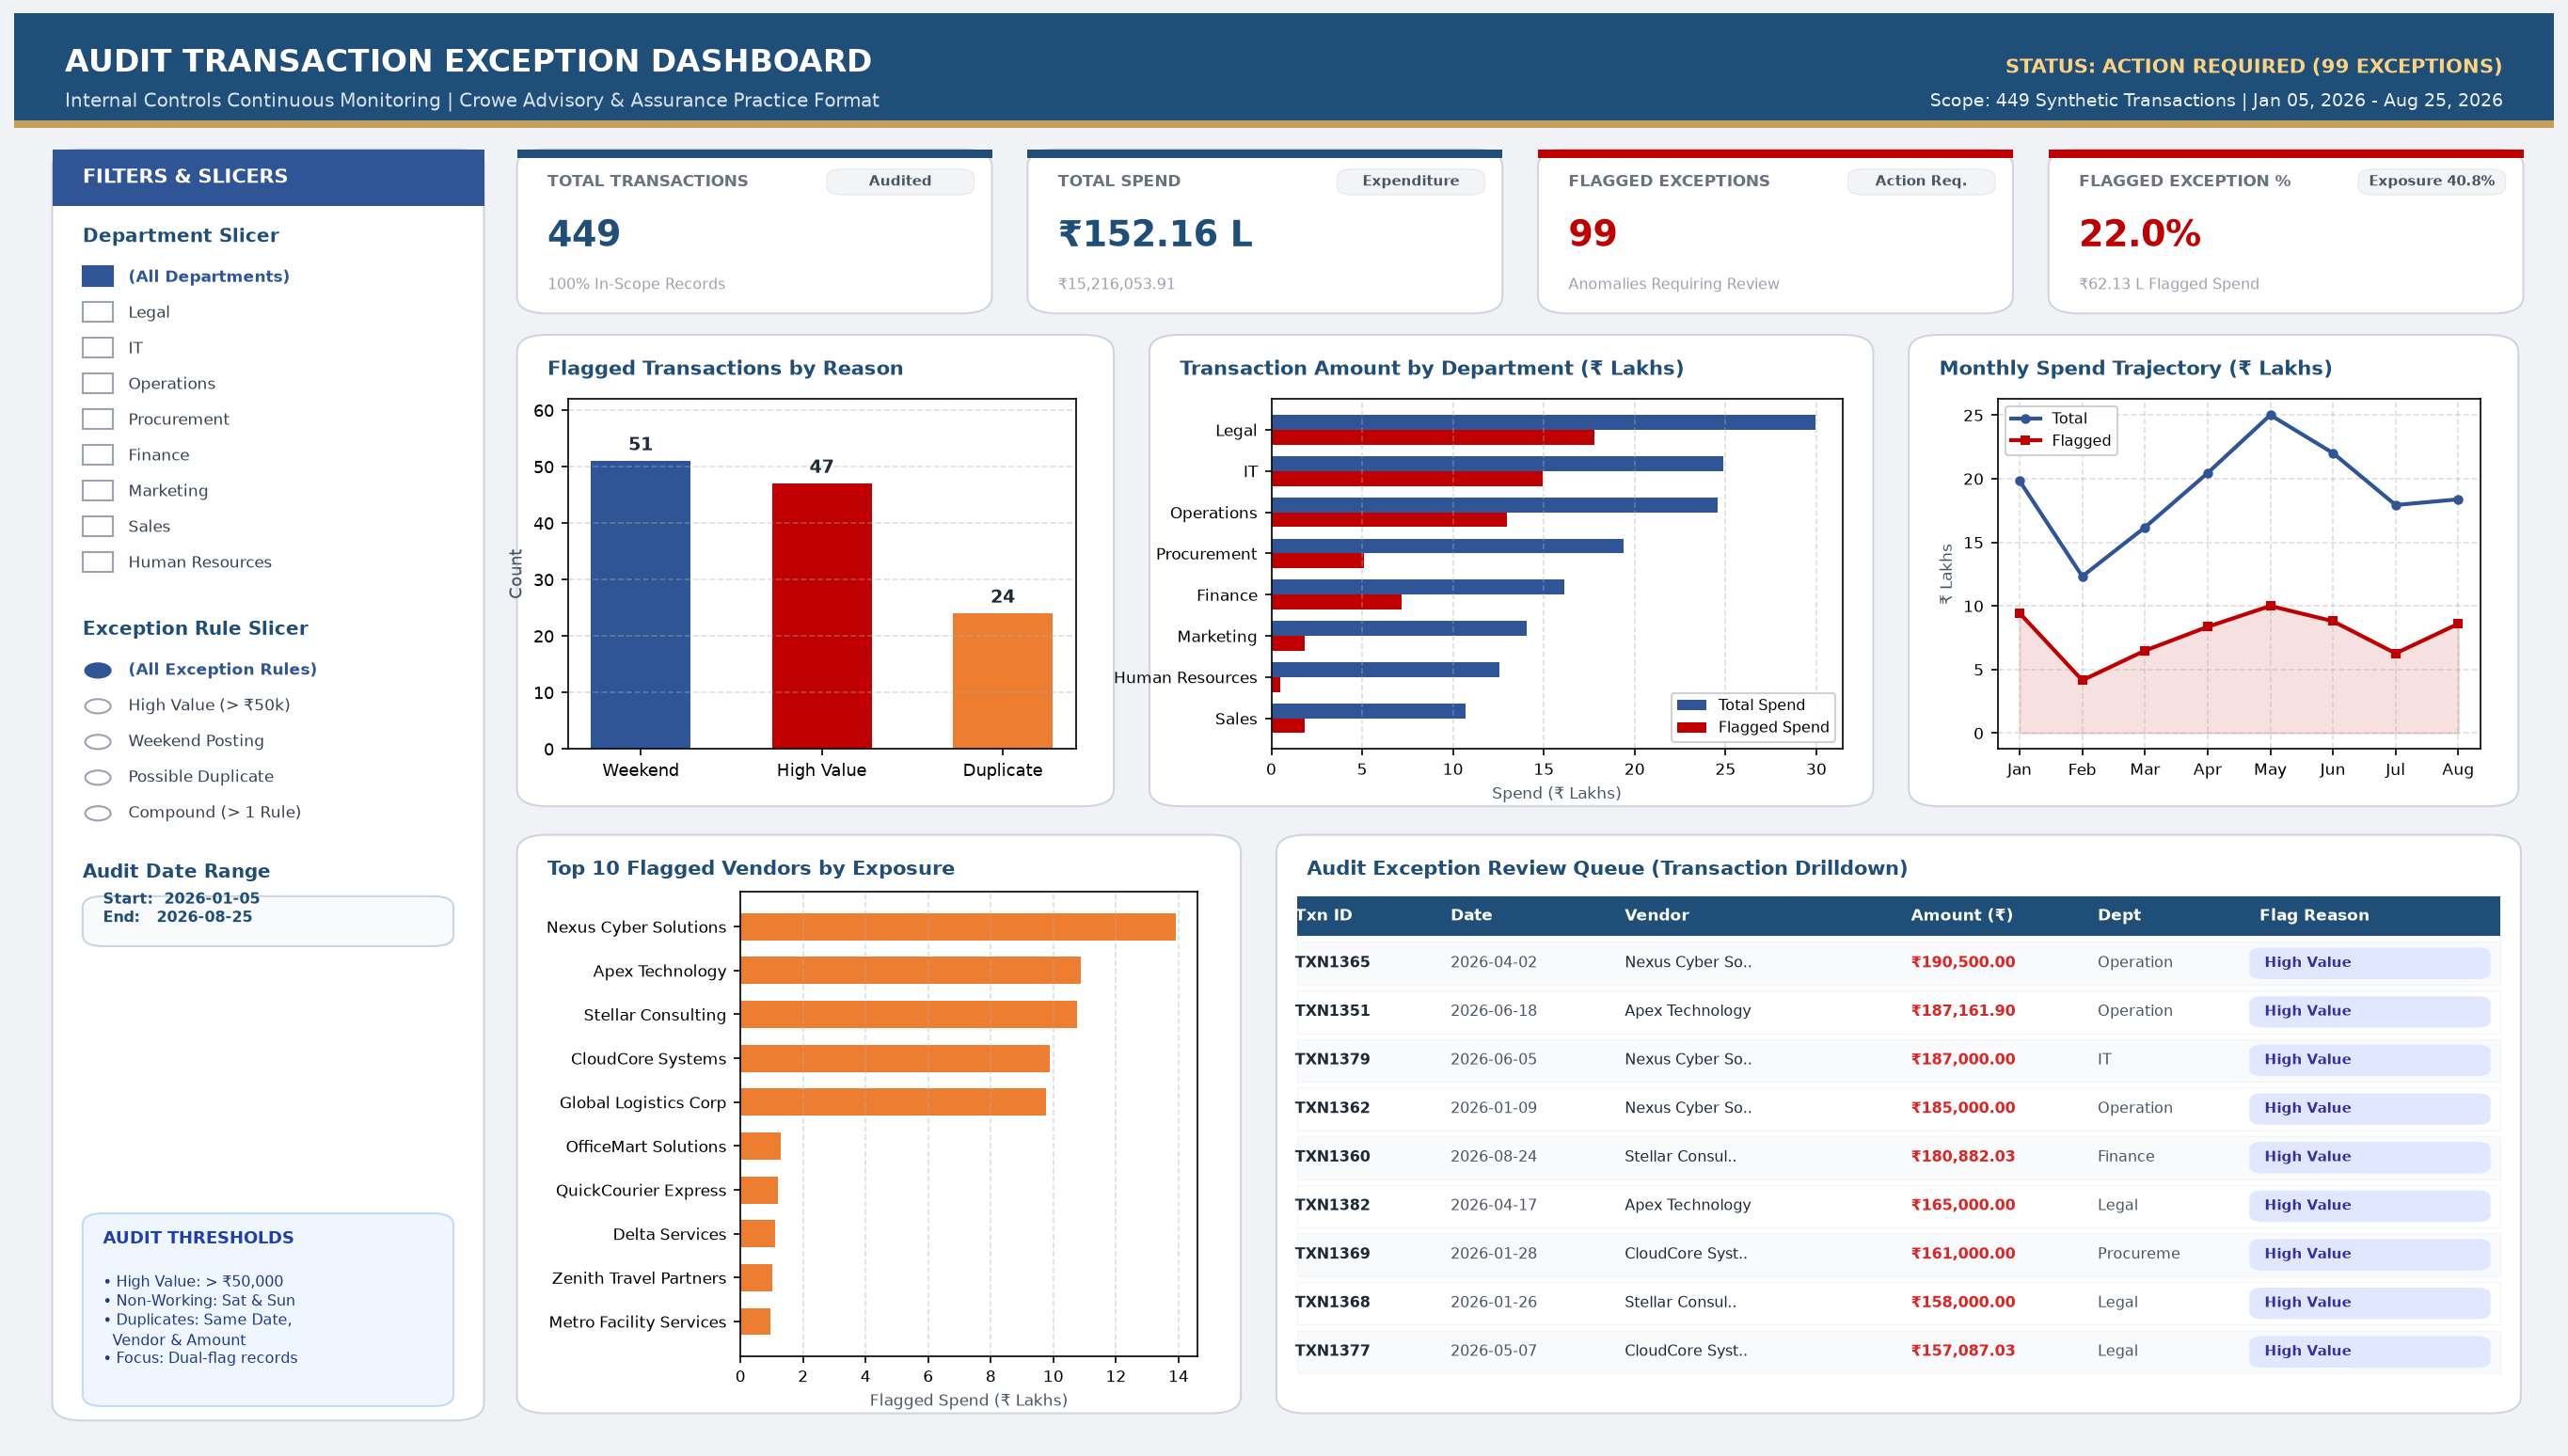

What the dashboard file says about the page in this screenshot:
{"tool":"powerbi","page":{"name":"Audit Exception Overview","canvas":[1280,850],"ordinal":0},"visuals":[{"type":"card","fields":{"Values":["Transactions.TotalTransactions"]},"box":[200,20,220,110],"z":1000},{"type":"card","fields":{"Values":["Transactions.TotalAmount"]},"box":[440,20,220,110],"z":1001},{"type":"card","fields":{"Values":["Transactions.FlaggedTransactions"]},"box":[680,20,220,110],"z":1002},{"type":"card","fields":{"Values":["Transactions.FlaggedPercentage"]},"box":[920,20,220,110],"z":1003},{"type":"columnChart","fields":{"Category":["Transactions.flag_reason"],"Y":["Transactions.FlaggedTransactions"]},"box":[200,150,300,320],"z":1004},{"type":"barChart","fields":{"Category":["Transactions.Department"],"Y":["Transactions.TotalAmount"]},"box":[520,150,360,320],"z":1005},{"type":"lineChart","fields":{"Category":["Transactions.Month"],"Y":["Transactions.TotalAmount"]},"box":[900,150,320,320],"z":1006},{"type":"barChart","fields":{"Category":["Transactions.Vendor"],"Y":["Transactions.FlaggedAmount"]},"box":[200,490,360,340],"z":1007},{"type":"tableEx","fields":{"Values":["Transactions.Transaction_ID","Transactions.Date","Transactions.Vendor","Transactions.Amount","Transactions.Department","Transactions.flag_reason"]},"box":[580,490,640,340],"z":1008},{"type":"slicer","fields":{"Values":["Transactions.Department"]},"box":[20,20,160,810],"z":1009}]}

Visuals, with their boxes on the page's 1280x850 design canvas (x1, y1, x2, y2). These are canvas units, not pixel positions in the 2568x1456 screenshot, which may show the page scaled, cropped or inside an application window:
card - Transactions.TotalTransactions: bbox=(200, 20, 420, 130)
card - Transactions.TotalAmount: bbox=(440, 20, 660, 130)
card - Transactions.FlaggedTransactions: bbox=(680, 20, 900, 130)
card - Transactions.FlaggedPercentage: bbox=(920, 20, 1140, 130)
columnChart - Transactions.flag_reason x Transactions.FlaggedTransactions: bbox=(200, 150, 500, 470)
barChart - Transactions.Department x Transactions.TotalAmount: bbox=(520, 150, 880, 470)
lineChart - Transactions.Month x Transactions.TotalAmount: bbox=(900, 150, 1220, 470)
barChart - Transactions.Vendor x Transactions.FlaggedAmount: bbox=(200, 490, 560, 830)
tableEx - Transactions.Transaction_ID x Transactions.Date: bbox=(580, 490, 1220, 830)
slicer - Transactions.Department: bbox=(20, 20, 180, 830)
